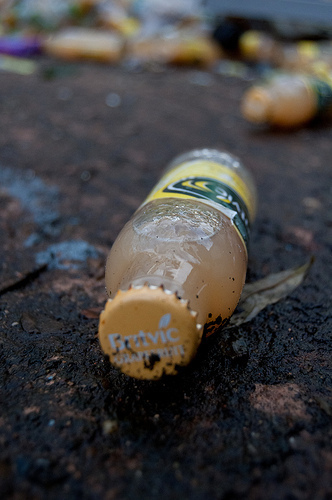litter: (100, 148, 254, 383), (1, 2, 216, 64), (240, 69, 327, 123), (240, 32, 332, 71)
